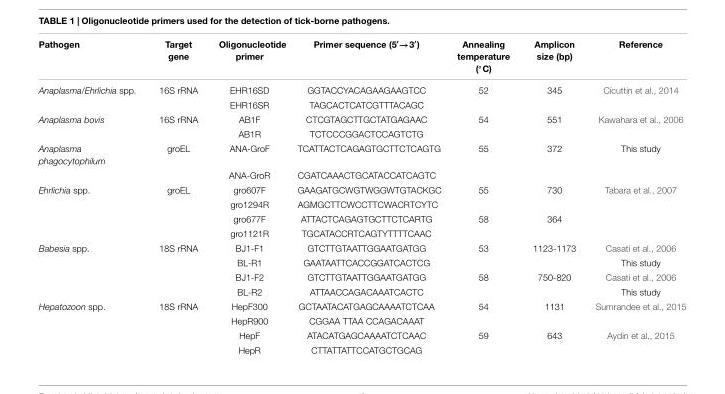table: (37, 37, 685, 354)
table column: (291, 37, 448, 354), (37, 37, 146, 354), (584, 37, 685, 354), (207, 37, 291, 354), (448, 37, 520, 354), (520, 37, 584, 354), (146, 37, 207, 354)
table column header: (37, 37, 685, 79)
table row: (37, 37, 685, 79), (37, 140, 685, 167), (37, 79, 685, 96), (37, 96, 685, 111), (37, 125, 685, 140), (37, 181, 685, 196), (37, 210, 685, 225), (37, 225, 685, 240), (37, 254, 685, 269), (37, 283, 685, 298), (37, 312, 685, 327), (37, 111, 685, 125), (37, 167, 685, 181), (37, 196, 685, 210), (37, 240, 685, 254), (37, 269, 685, 283), (37, 298, 685, 312), (37, 327, 685, 341), (37, 341, 685, 354)
table spanning cell: (37, 181, 146, 240), (37, 240, 146, 298), (37, 298, 146, 354), (37, 140, 146, 181), (37, 79, 146, 111), (37, 111, 146, 140)
